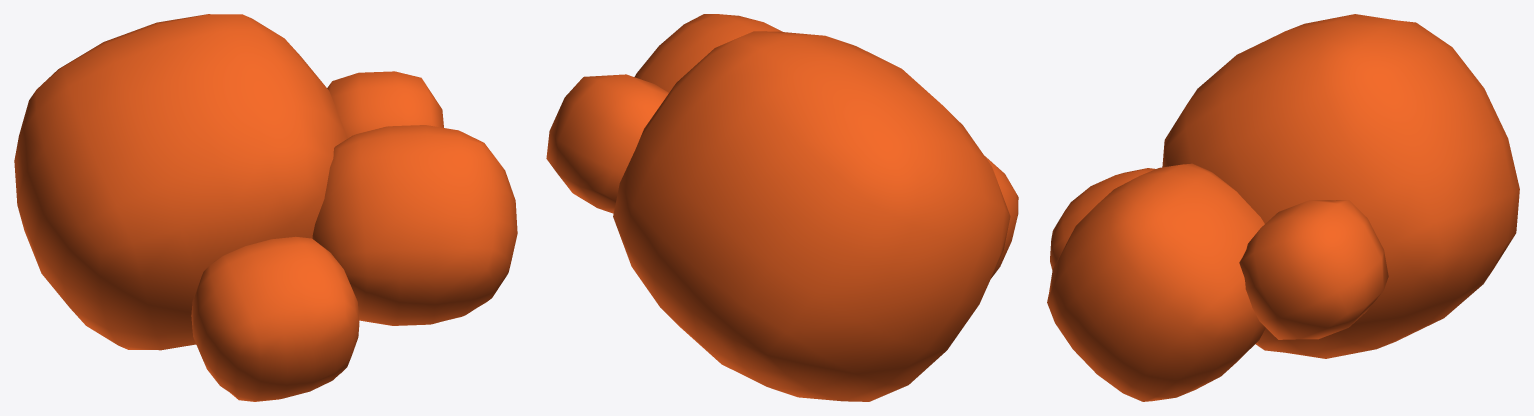
Rendered from bush.fbx.
The picture shows the model from 3 angles, left to right: view 1: azimuth 30°, elevation 25°; view 2: azimuth 150°, elevation 25°; view 3: azimuth 270°, elevation 25°; orthographic projection. The views are drawn at different scales.
Visible parts, largest first — view 1: Bush; view 2: Bush; view 3: Bush.
Boxes of the visible parts, x1=… form: Bush: x1=14, y1=14, x2=517, y2=401; Bush: x1=546, y1=14, x2=1018, y2=401; Bush: x1=1047, y1=14, x2=1519, y2=401.
Size of the model in its own units: 48.84 by 36.19 by 47.81.
